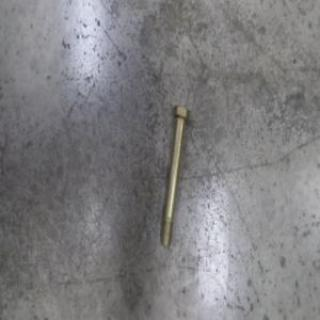Bolttrack_idkeyframe: (158, 101, 191, 251)
